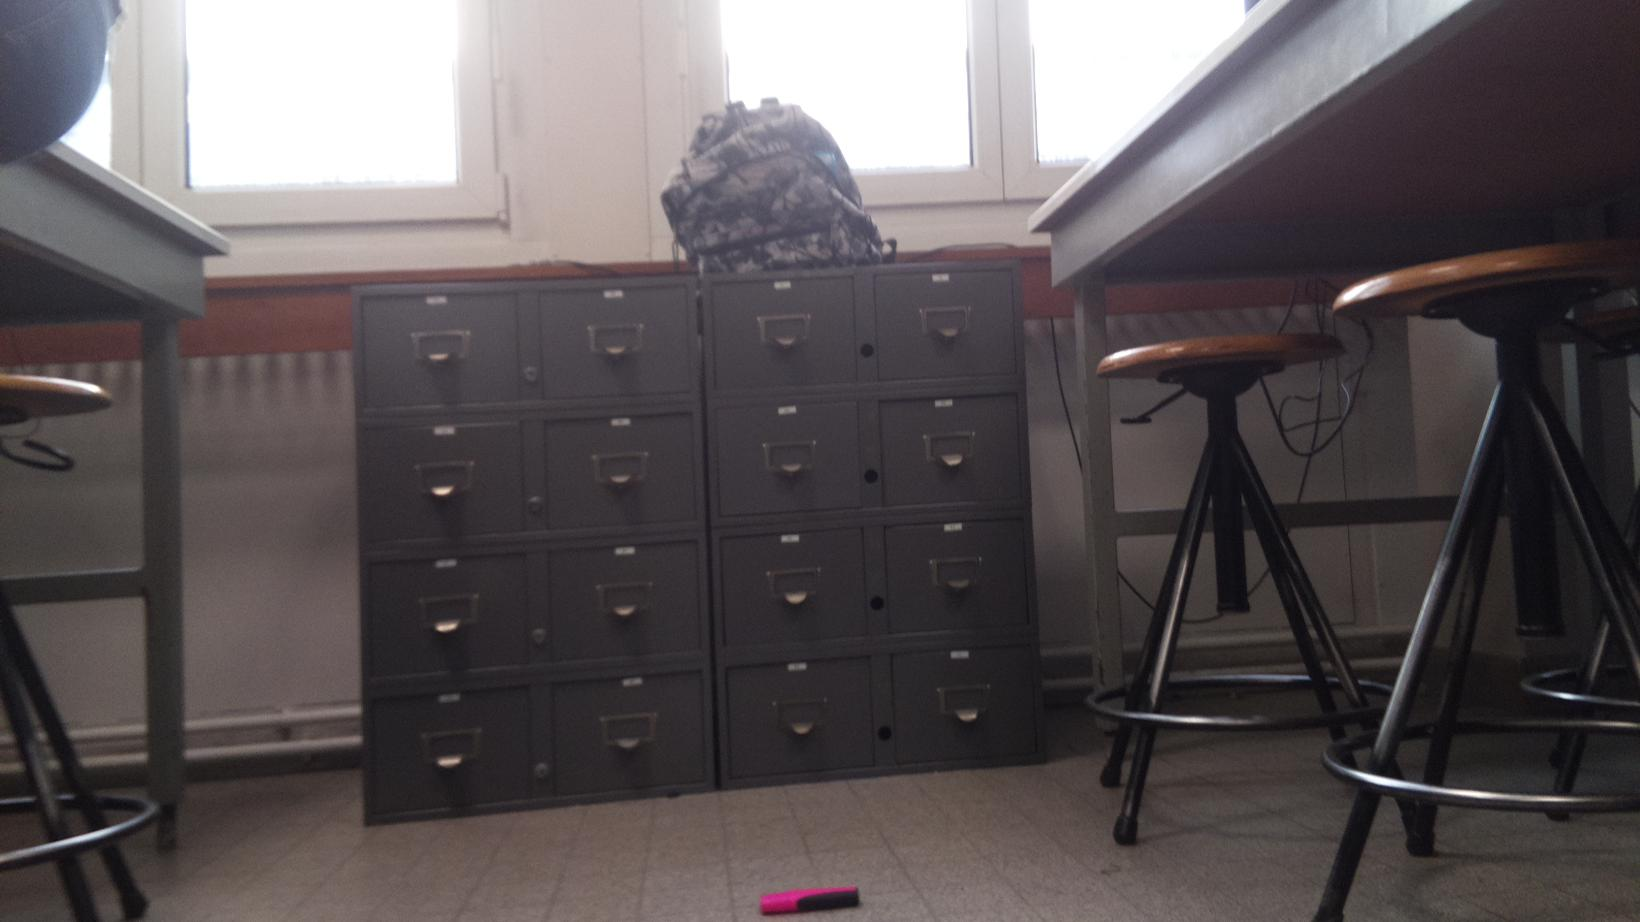big: (659, 101, 889, 266)
small: (758, 885, 861, 915)
